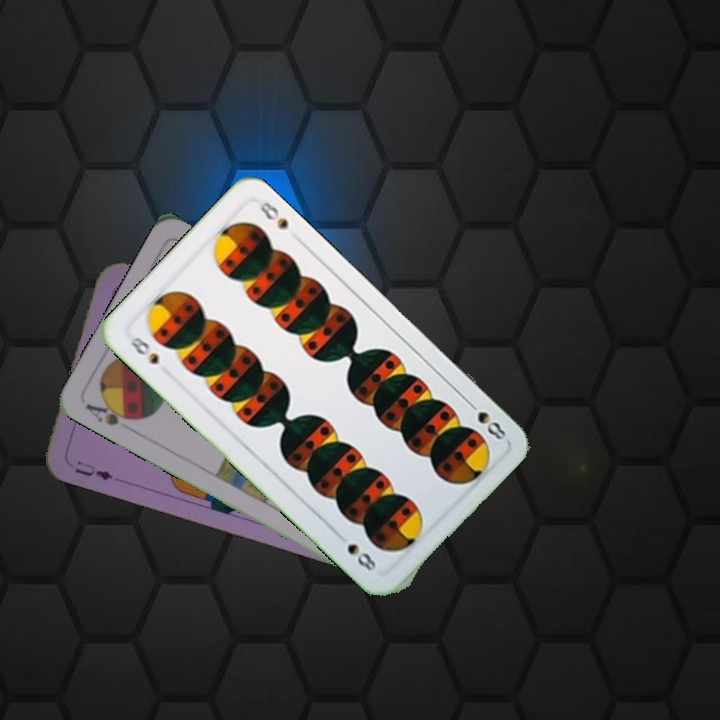EU: (71, 456, 116, 483)
S8: (462, 396, 509, 443), (126, 332, 162, 368)
SA: (81, 395, 140, 434)
